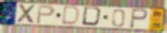0: (111, 8, 126, 28)
D: (81, 6, 105, 28), (60, 5, 81, 27)
P: (36, 4, 57, 25), (129, 8, 149, 29)
X: (17, 4, 38, 25)
